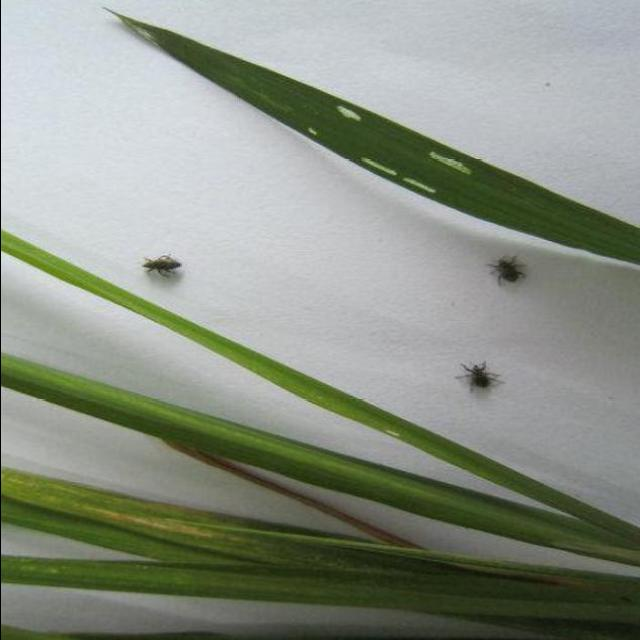ricebug: (456, 364, 499, 391), (486, 258, 523, 285), (141, 256, 179, 276)
